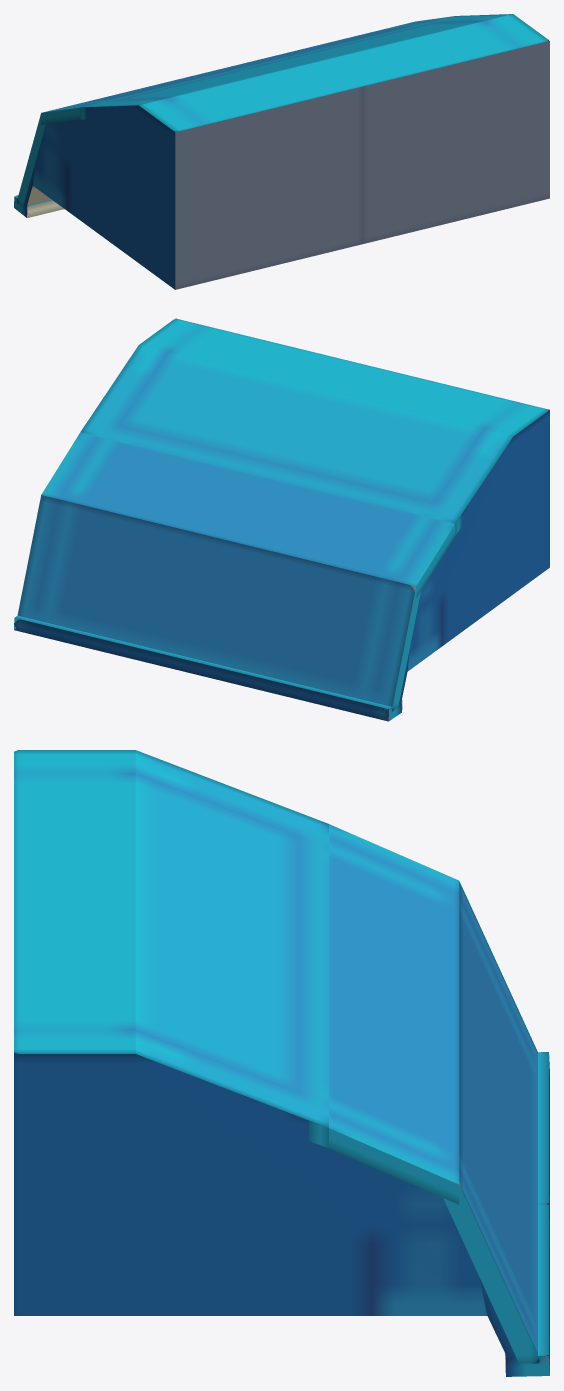
Rendered from df5_carport_cabin.obj.
3 views of the same model, one above another, from view 1: azimuth 30°, elevation 25°; view 2: azimuth 150°, elevation 25°; view 3: azimuth 270°, elevation 25° (orthographic). The views are drawn at different scales.
Visible parts, largest first — view 1: cube_selection_selection_selection_selection_selection_selection; view 2: cube_selection_selection_selection_selection_selection_selection; view 3: cube_selection_selection_selection_selection_selection_selection.
Part boxes in pixels (x1,y1,x2,y2): cube_selection_selection_selection_selection_selection_selection: (14,14,549,289); cube_selection_selection_selection_selection_selection_selection: (14,318,549,721); cube_selection_selection_selection_selection_selection_selection: (14,750,549,1376).
Bounding box in the file's own units: 2.04 × 1.01 × 1.51.
